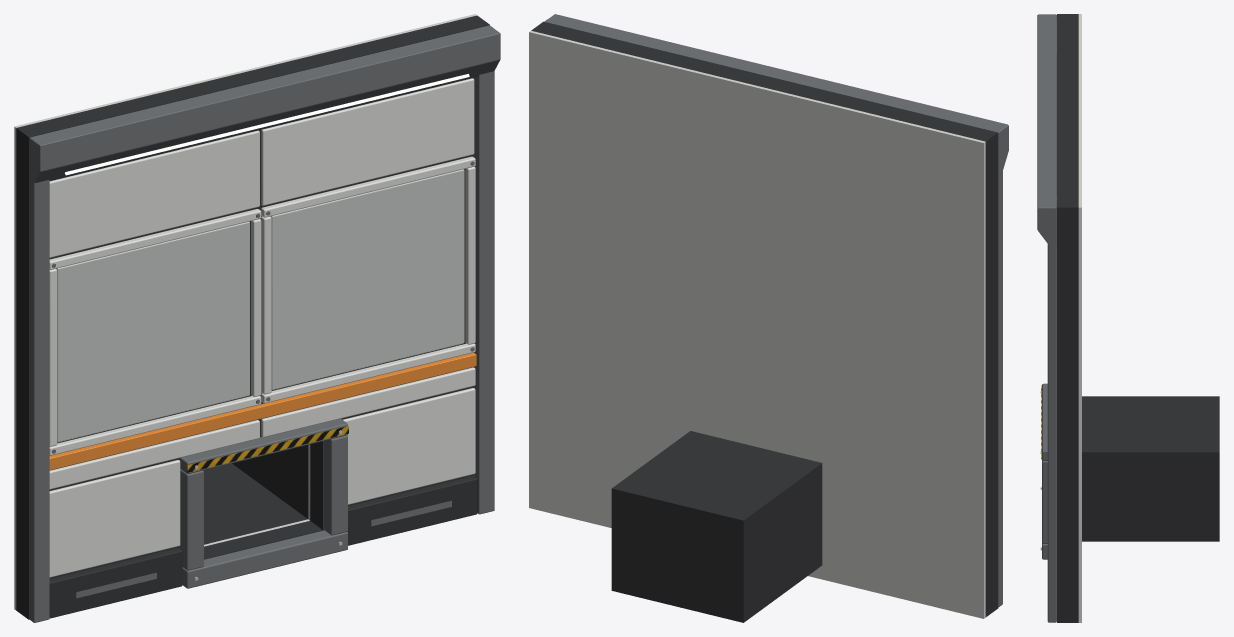
Rendered from kit_wall_vent.glb.
3 views of the same model, side by side, from view 1: azimuth 30°, elevation 25°; view 2: azimuth 150°, elevation 25°; view 3: azimuth 270°, elevation 25° (orthographic). The views are drawn at different scales.
Visible parts, largest first — view 1: kit_wall_vent; view 2: kit_wall_vent; view 3: kit_wall_vent.
Part boxes in pixels (<box>): kit_wall_vent: <box>14,14,500,622</box>; kit_wall_vent: <box>529,14,1008,622</box>; kit_wall_vent: <box>1037,14,1219,622</box>.
Size of the model in its own units: 4 by 4 by 1.59.
8 materials, 1 textured.
